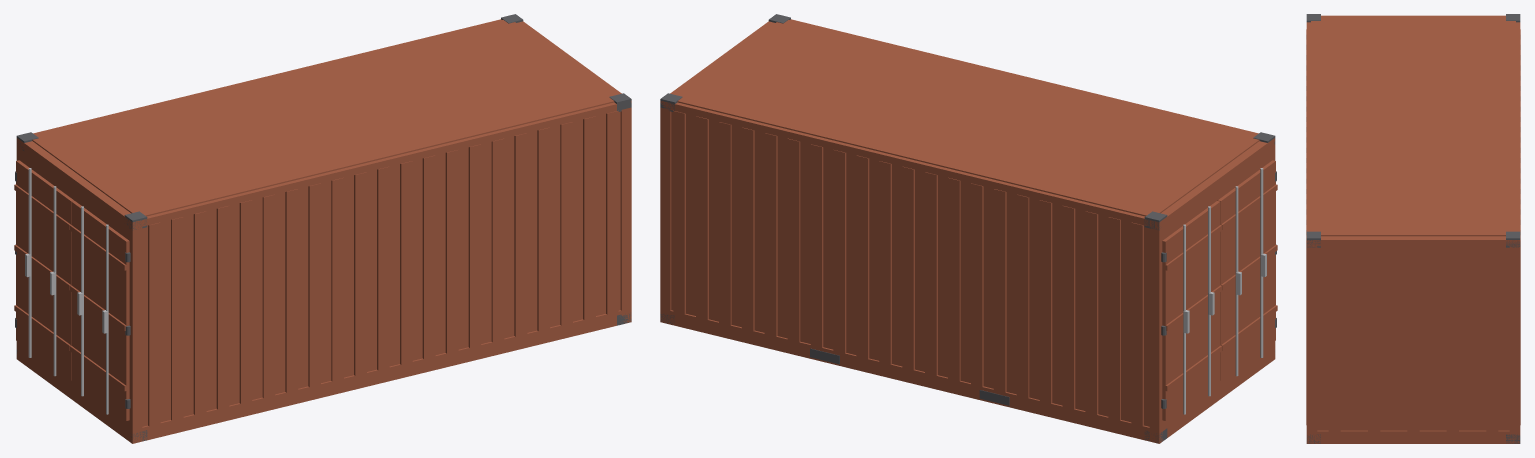
Rendered from SM_Container20ft.fbx.
3 views of the same model, side by side, from view 1: azimuth 30°, elevation 25°; view 2: azimuth 150°, elevation 25°; view 3: azimuth 270°, elevation 25° (orthographic). The views are drawn at different scales.
Parts seen in each view (by area): view 1: C20_Body, C20_Door_R, C20_Door_L; view 2: C20_Body, C20_Door_L, C20_Door_R; view 3: C20_Body.
Part boxes in pixels (x1,y1,x2,y2): C20_Body: (16,14,631,443); C20_Door_R: (69,201,130,420); C20_Door_L: (14,160,74,380); C20_Body: (660,14,1275,443); C20_Door_L: (1161,201,1222,420); C20_Door_R: (1217,160,1277,380); C20_Body: (1306,14,1520,443).
Bounding box in the file's own units: 618 × 259 × 245.
